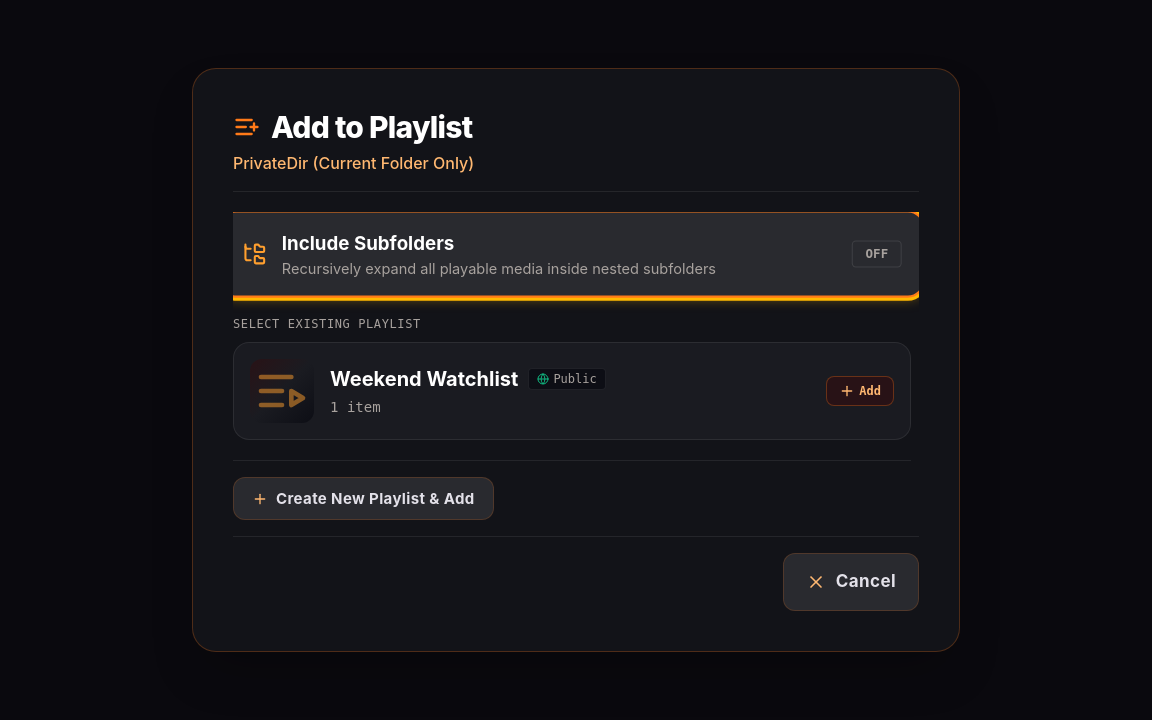
Test case: AddToPlaylistModal › invokes onLockedLibrary when folder expansion returns 403 LIBRARY_LOCKED
Expected: the text "Weekend Watchlist" is shown, [330,365,518,393]
Click the button with test id "add-to-playlist-option-pl-edit-2" at (572, 391), box [233,342,911,440]
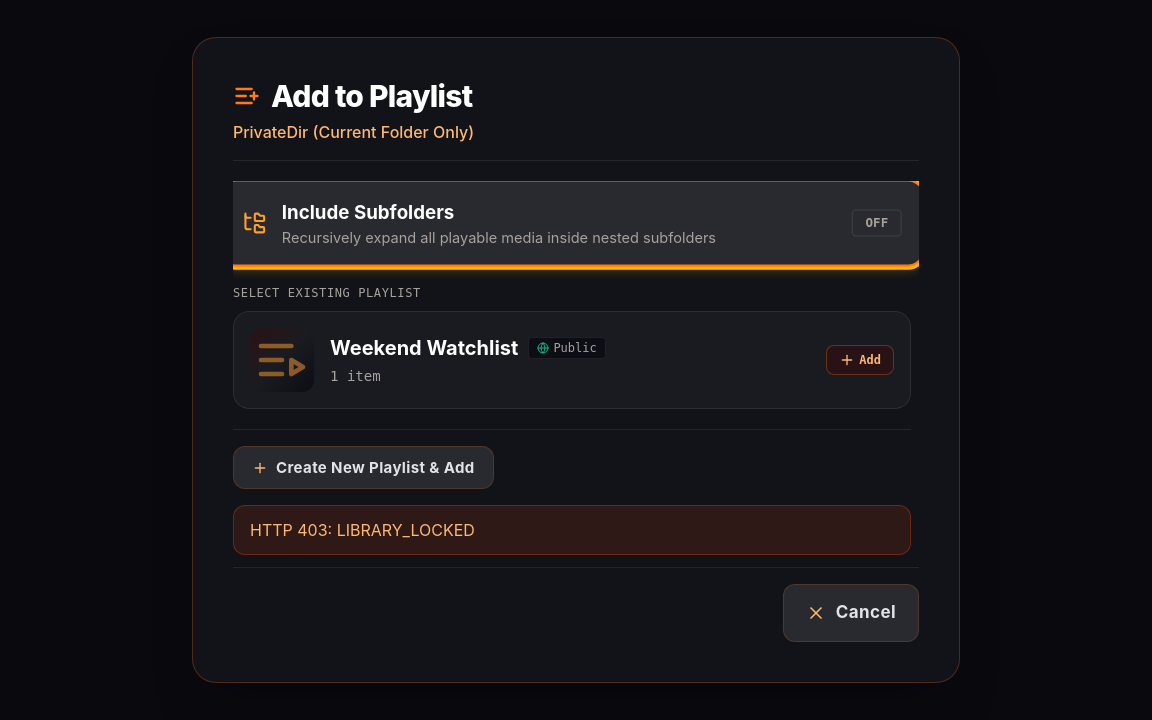
Expected: the message shows "LIBRARY_LOCKED", [250,520,475,540]
